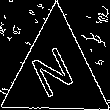N_SE: (29, 40, 82, 105)
